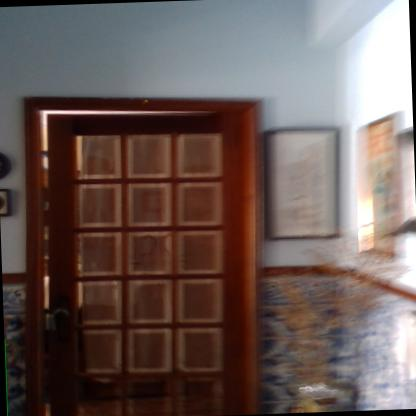closed: (6, 78, 274, 415)
